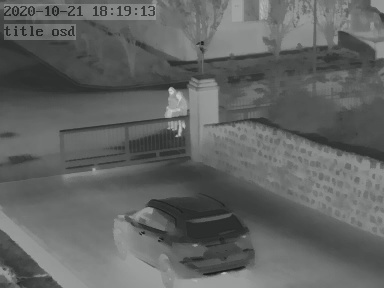person: (165, 84, 186, 131)
vehicle: (113, 195, 255, 286)
